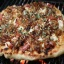pizza: (1, 2, 64, 60)
